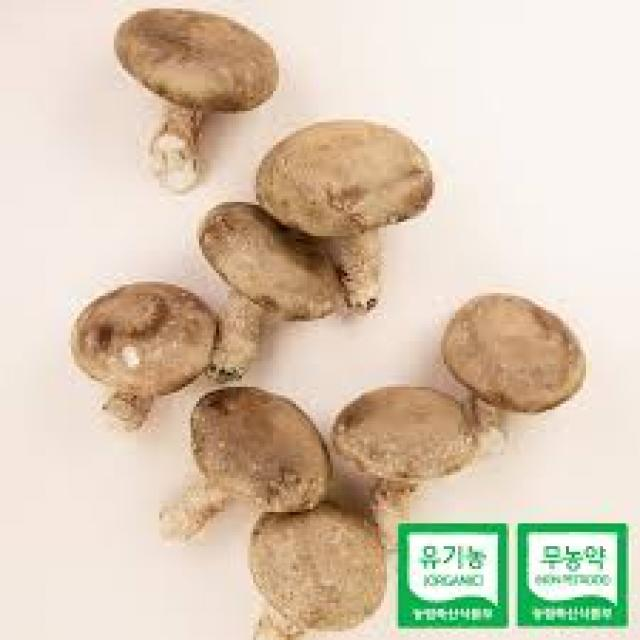mushroom: (259, 119, 435, 311), (114, 9, 279, 193), (159, 390, 333, 543), (71, 284, 216, 431)
